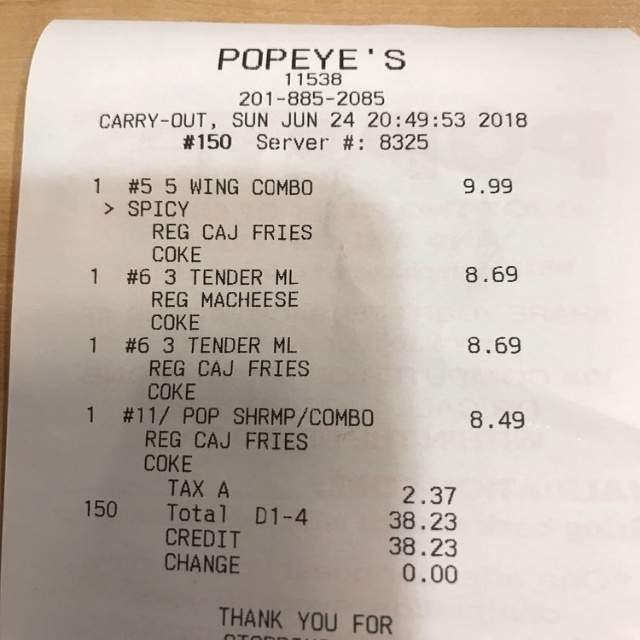invoice_table: (84, 177, 526, 473)
invoice_title: (216, 44, 406, 105)
invoice_total: (163, 502, 459, 532)
